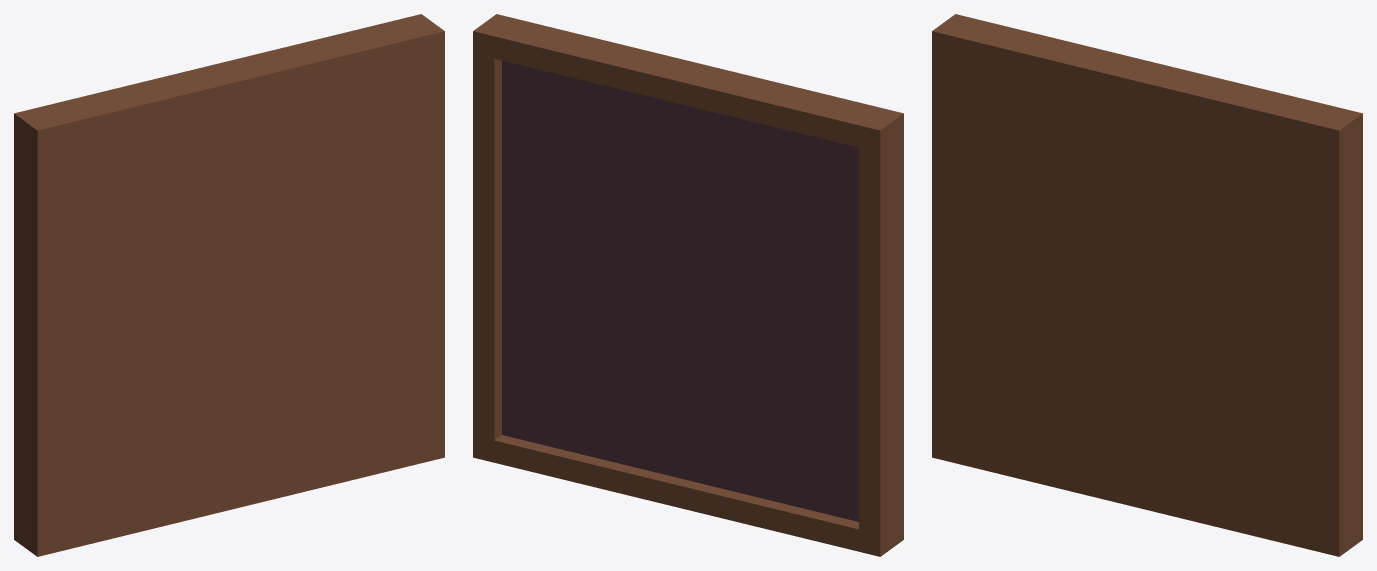
Rendered from Bild.fbx.
3 views of the same model, side by side, from view 1: azimuth 30°, elevation 25°; view 2: azimuth 150°, elevation 25°; view 3: azimuth 330°, elevation 25° (orthographic).
Visible parts, largest first — view 1: Cube.007; view 2: Cube.007; view 3: Cube.007.
Part boxes in pixels (<box>): Cube.007: <box>14,14,444,556</box>; Cube.007: <box>473,14,903,556</box>; Cube.007: <box>932,14,1362,556</box>.
Size of the model in its own units: 200 by 200 by 20.
